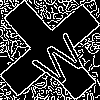W: (25, 25, 91, 91)
